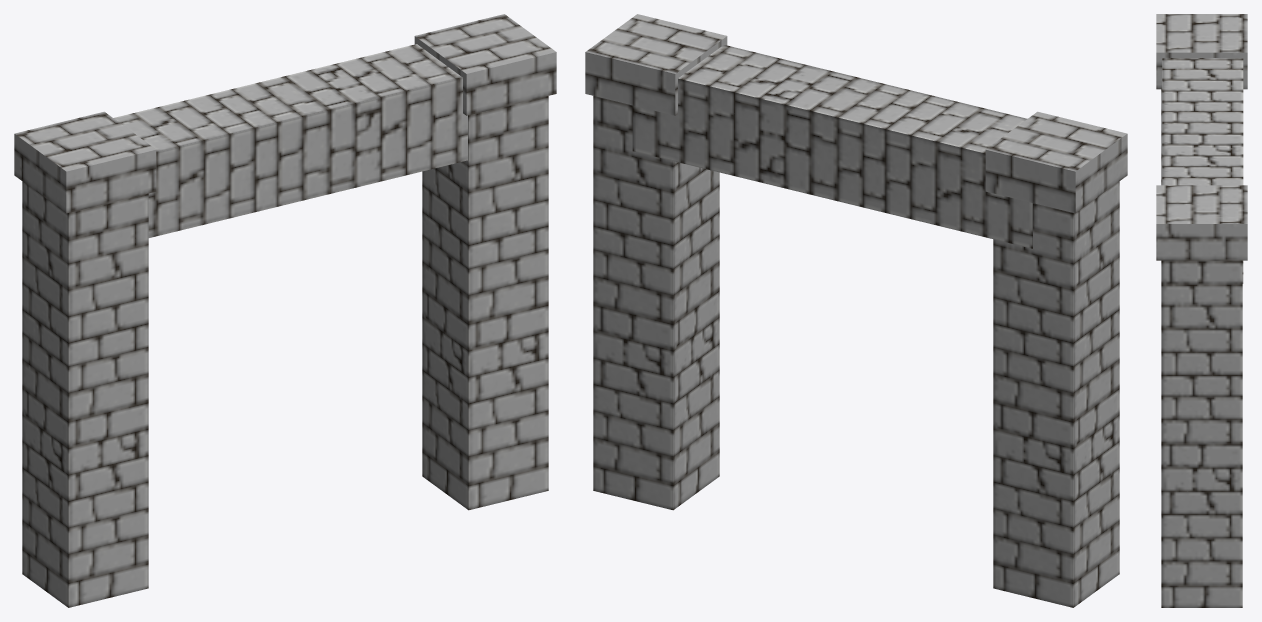
The model's file is StoneDoorWayOpening.fbx.
3 views of the same model, side by side, from view 1: azimuth 30°, elevation 25°; view 2: azimuth 150°, elevation 25°; view 3: azimuth 270°, elevation 25° (orthographic). The views are drawn at different scales.
Visible parts, largest first — view 1: stonePillar1, stonePillar2, stonePillar3; view 2: stonePillar1, stonePillar2, stonePillar3; view 3: stonePillar2, stonePillar3, stonePillar1.
Part boxes in pixels (x1=…): stonePillar1: x1=14, y1=111, x2=156, y2=607; stonePillar2: x1=414, y1=14, x2=556, y2=510; stonePillar3: x1=113, y1=44, x2=467, y2=237; stonePillar1: x1=985, y1=111, x2=1127, y2=607; stonePillar2: x1=585, y1=14, x2=727, y2=510; stonePillar3: x1=632, y1=45, x2=1032, y2=248; stonePillar2: x1=1156, y1=185, x2=1247, y2=607; stonePillar3: x1=1162, y1=58, x2=1243, y2=283; stonePillar1: x1=1156, y1=14, x2=1247, y2=185.
Size of the model in its own units: 245 by 210 by 45.
